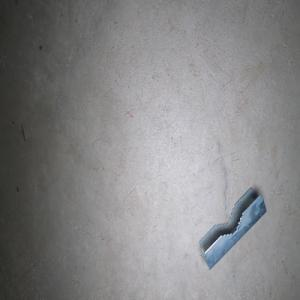ClampPart: (198, 185, 267, 271)
